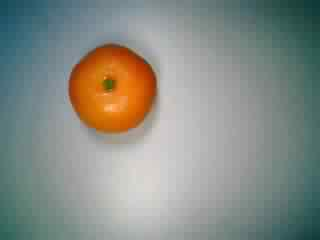orange: (65, 37, 162, 135)
